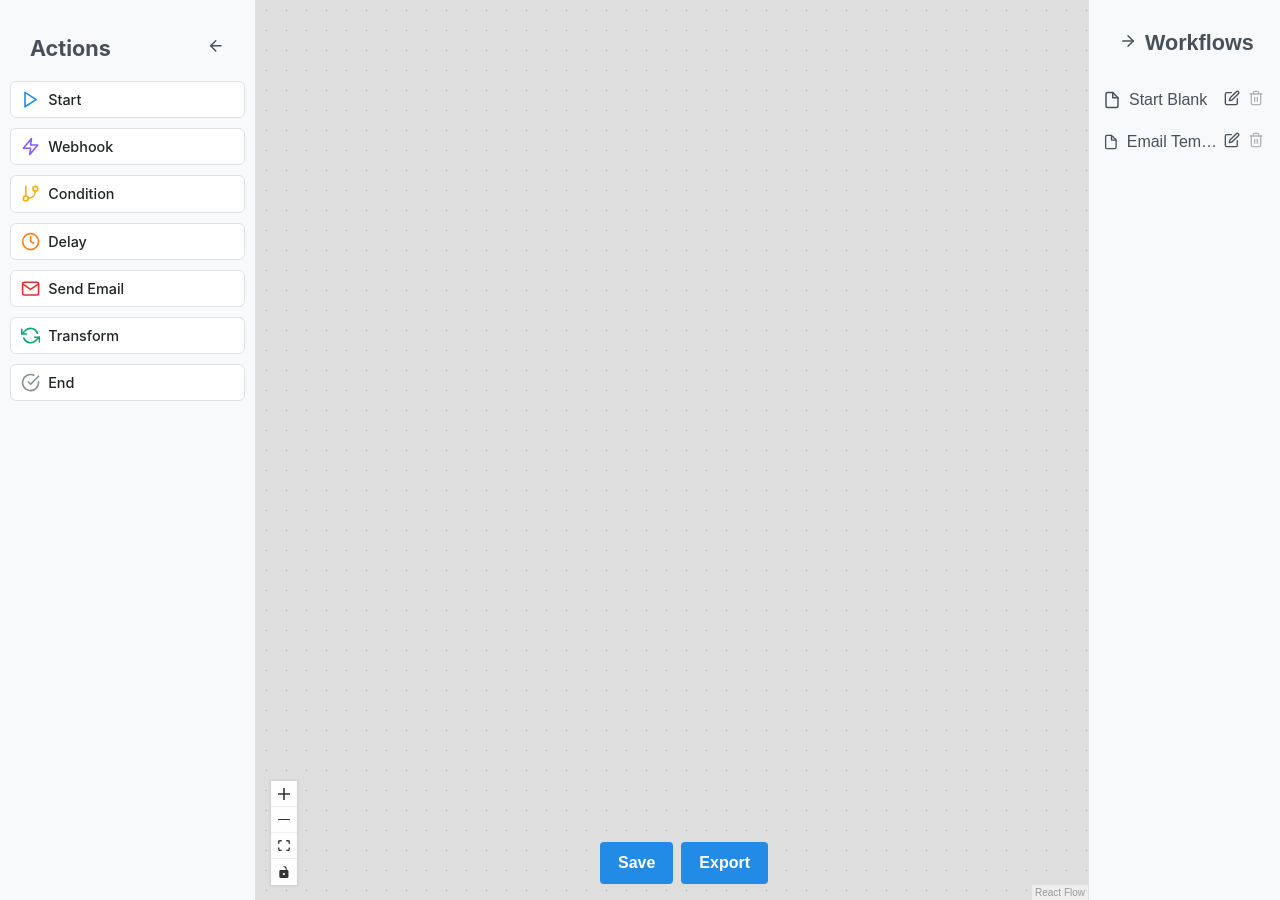
Test case: AutomationBuilder Component › opens workflow modal on save
Click the button "Save": (637, 863) 600,842 -> 673,884
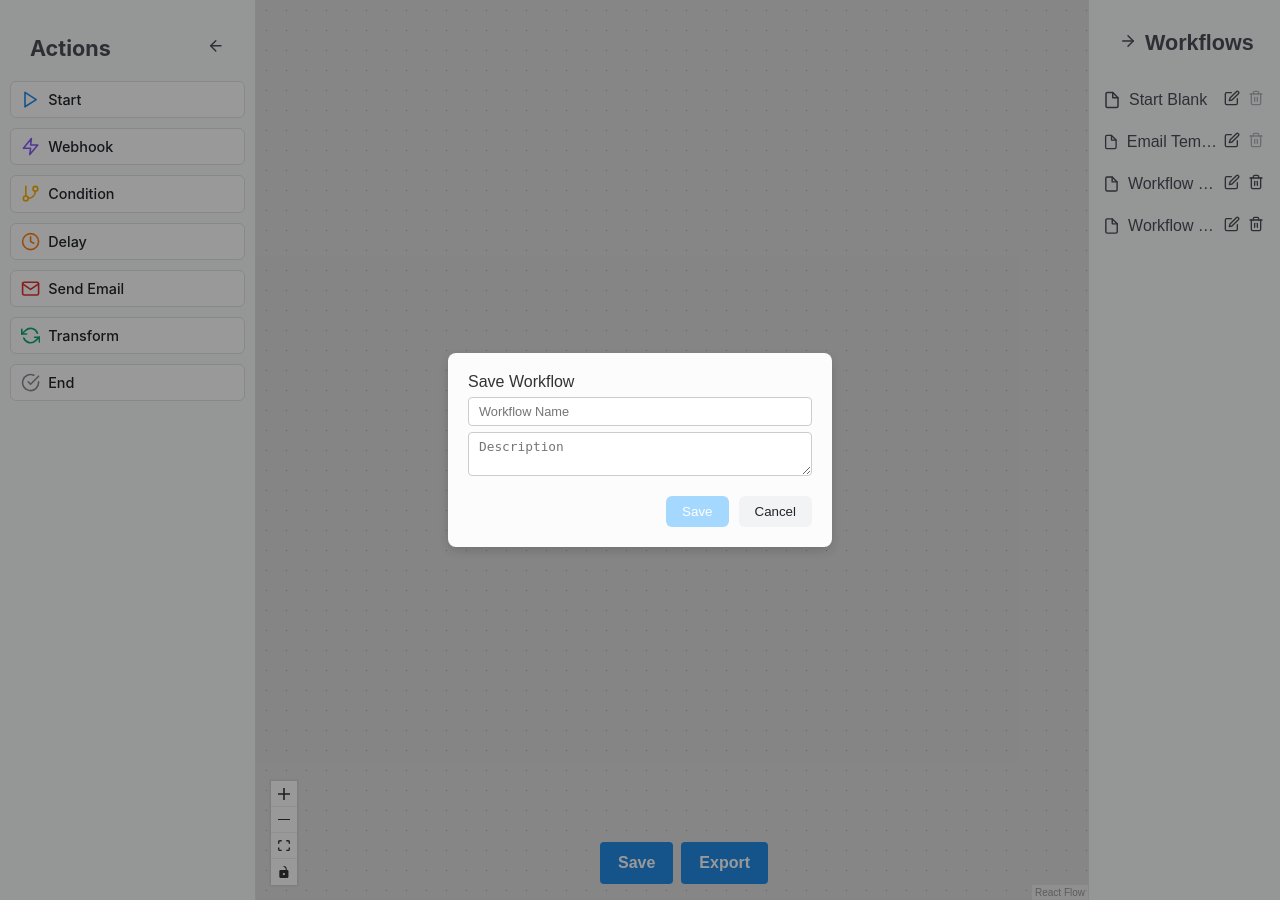
Expected: the field with placeholder "Workflow Name" is shown, 468,397 -> 812,426
